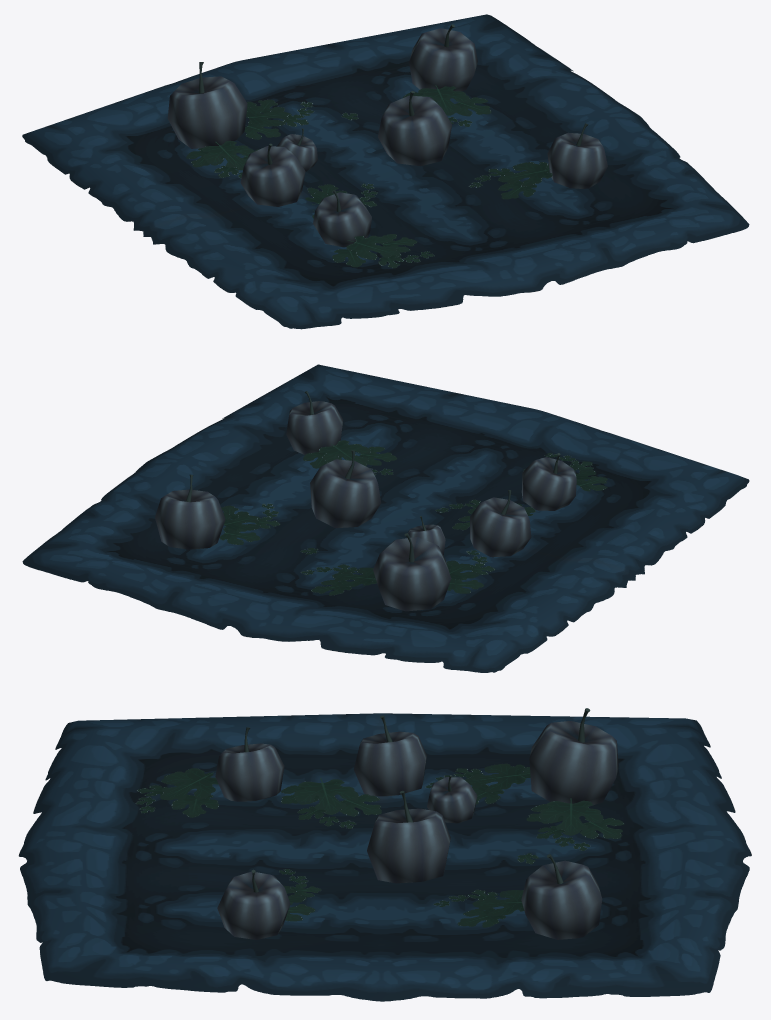
File: Paddy1.FBX
3 renders of one model, top to bottom at view 1: azimuth 30°, elevation 25°; view 2: azimuth 150°, elevation 25°; view 3: azimuth 270°, elevation 25°, orthographic. The views are drawn at different scales.
Parts seen in each view (by area): view 1: Paddy1; view 2: Paddy1; view 3: Paddy1.
Boxes of the visible parts, x1,y1,x2,y2 form: Paddy1: (22,14,749,329); Paddy1: (22,364,749,672); Paddy1: (18,708,751,1001).
Bounding box in the file's own units: 274 × 40.71 × 296.
